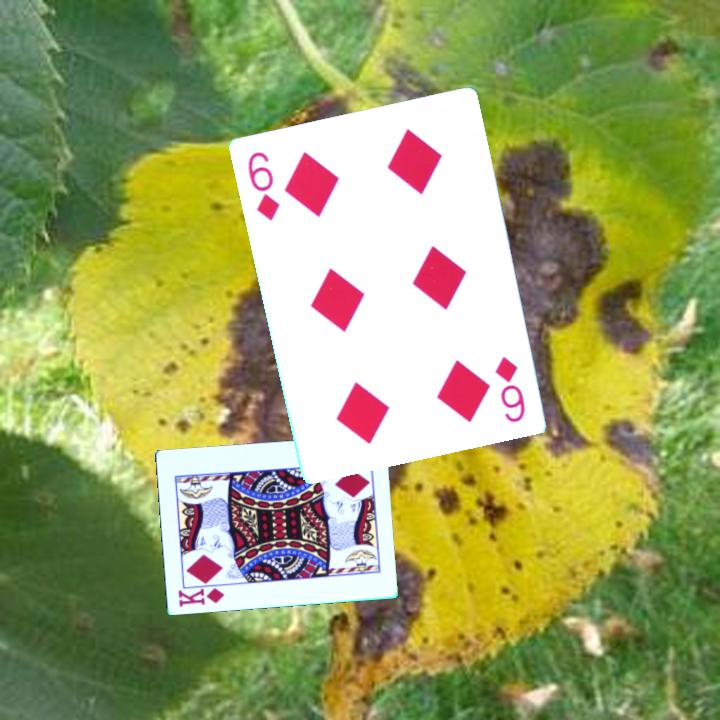6d: (243, 147, 282, 224), (492, 352, 528, 425)
Kd: (175, 581, 227, 610)
